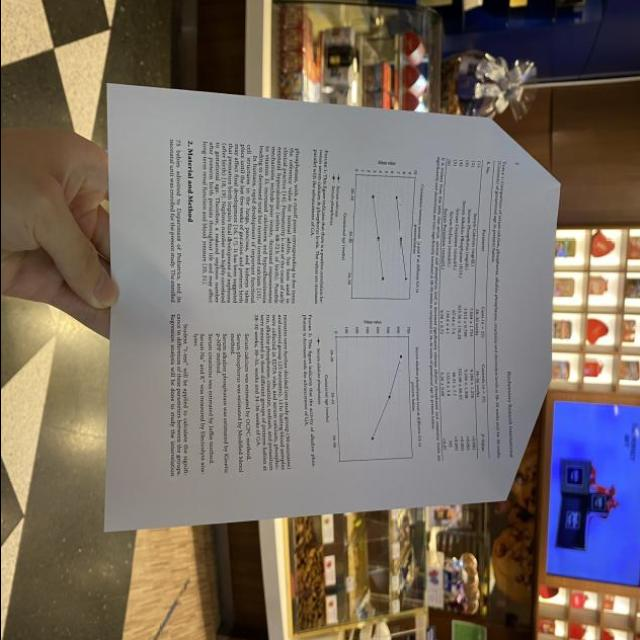kertas: (104, 85, 558, 533)
